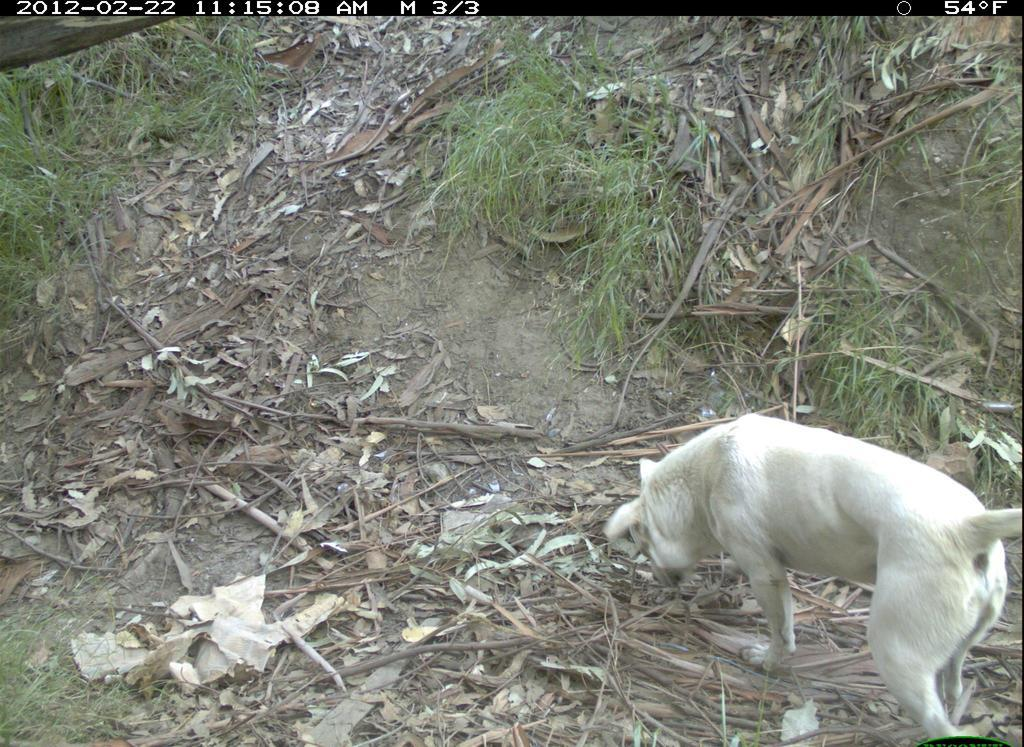dog: (603, 410, 1021, 745)
